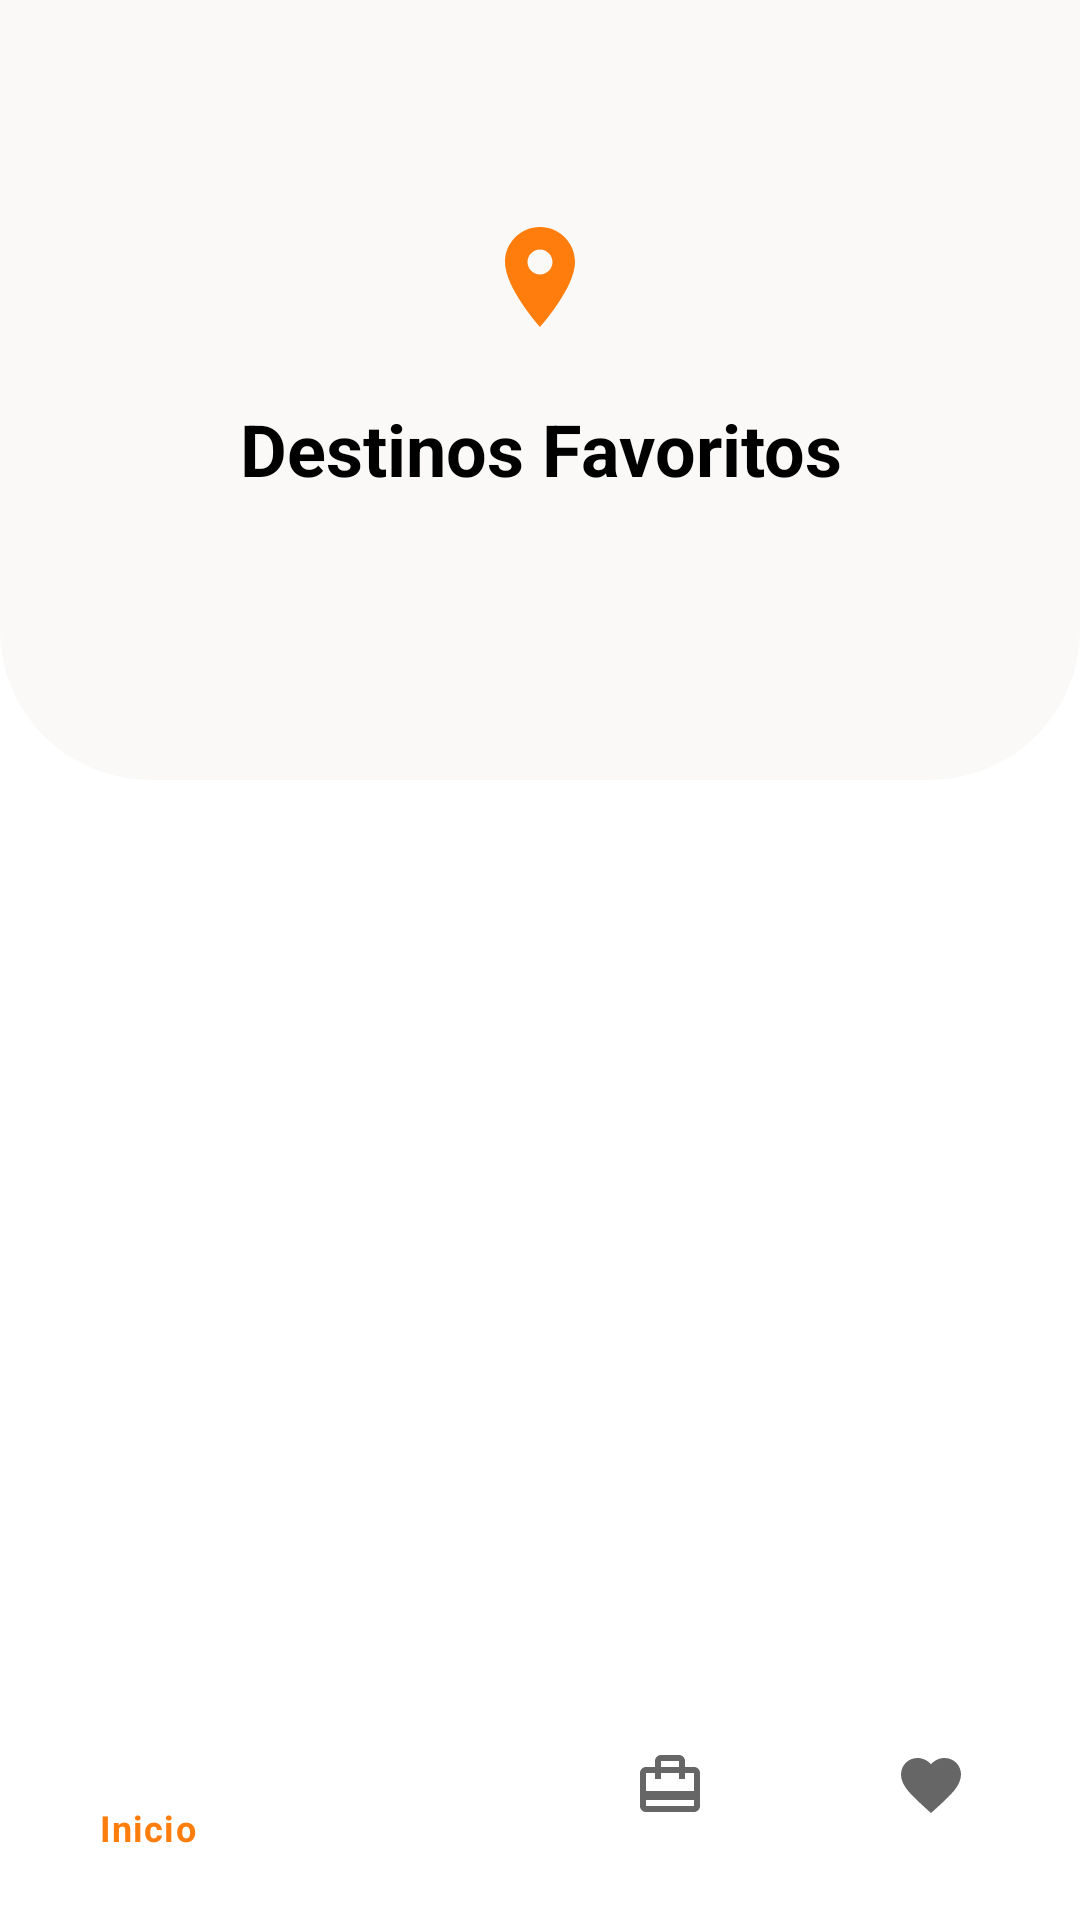

Icons on this 1080×1920 Android screen, each with its box as (x1, y1, x2, y2):
location: (505, 227, 575, 327)
